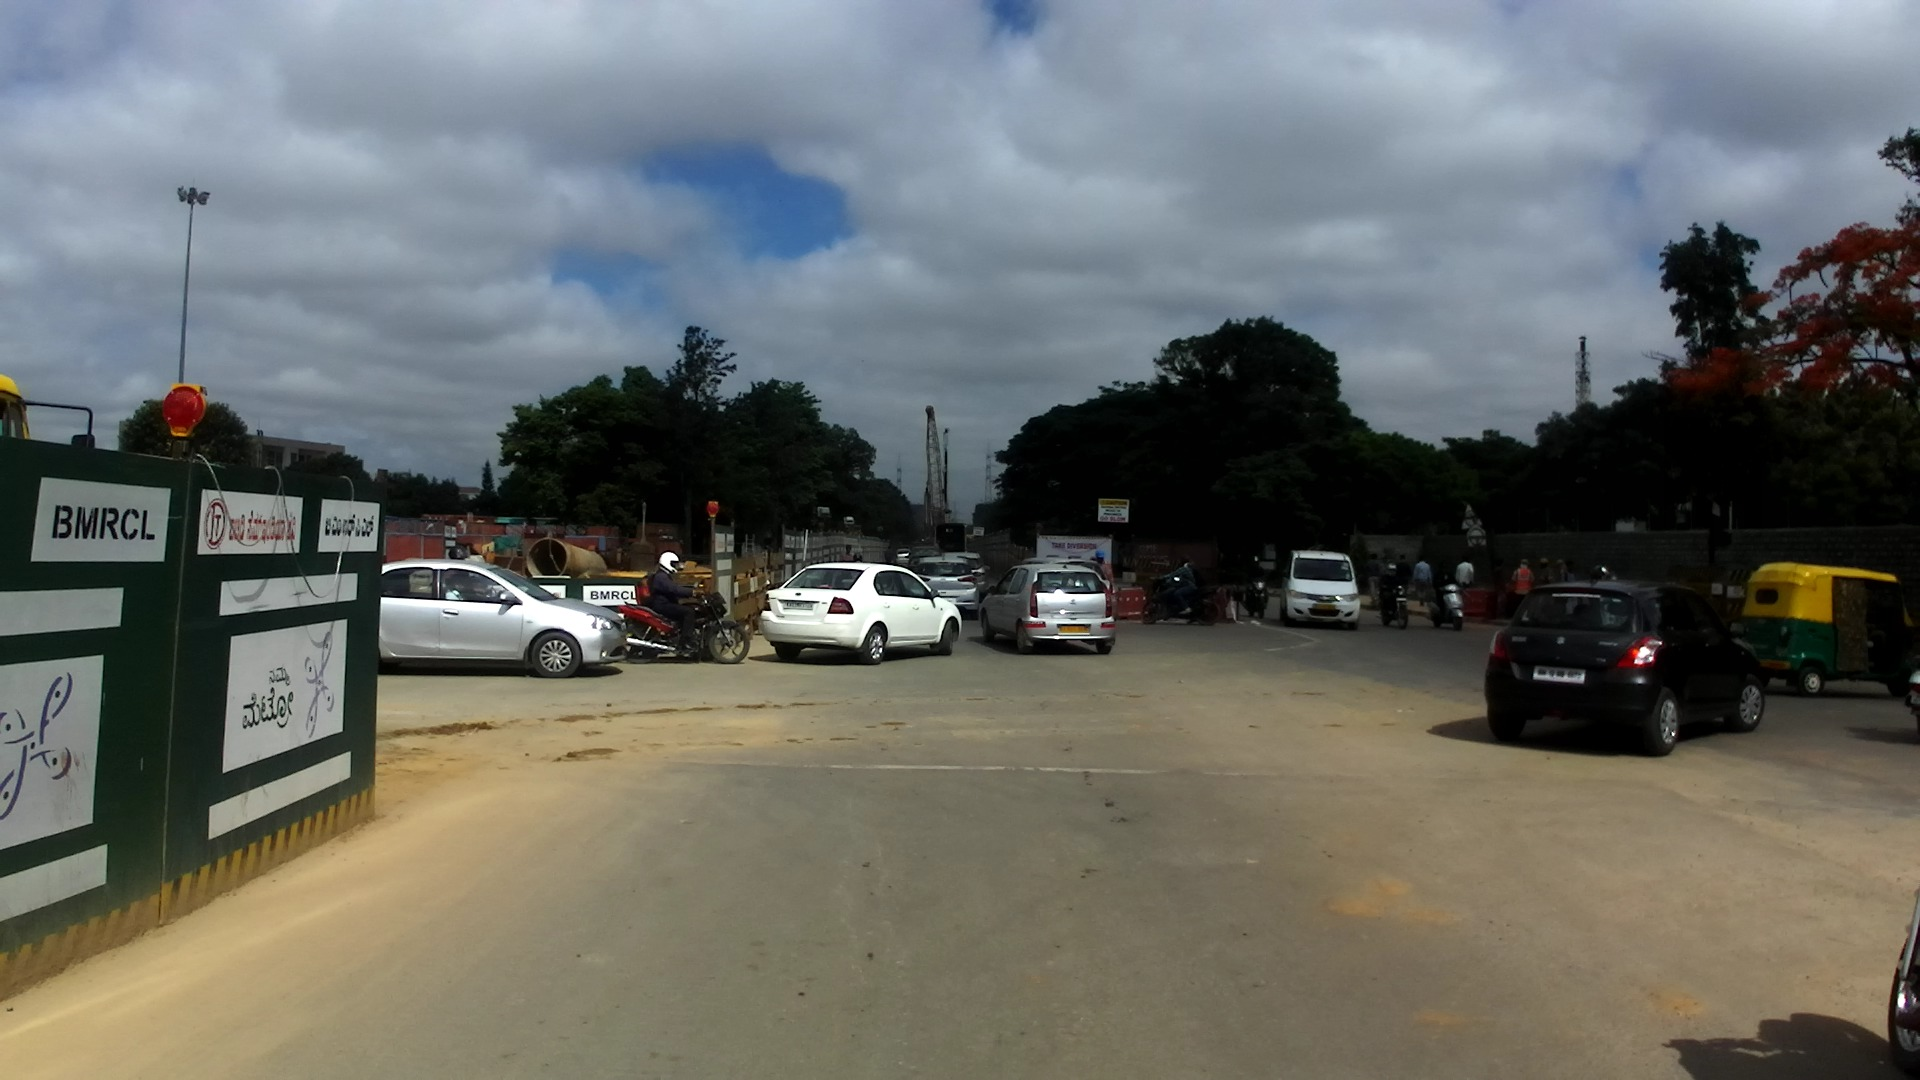autorickshaw: (1735, 563, 1916, 697)
car: (1484, 582, 1769, 756), (377, 558, 627, 676), (760, 562, 963, 664), (981, 562, 1118, 654), (1279, 551, 1363, 629), (1023, 558, 1119, 621), (915, 558, 983, 619), (944, 552, 990, 600), (905, 547, 938, 570), (897, 549, 911, 565)
motorcycle: (618, 593, 750, 665), (1876, 901, 1920, 1080), (1142, 574, 1219, 628), (1428, 578, 1466, 630), (1378, 584, 1409, 628), (1242, 574, 1271, 619), (1908, 660, 1920, 720)
person: (1509, 552, 1533, 616), (1494, 558, 1509, 617), (1415, 557, 1432, 607), (1366, 552, 1382, 606), (1094, 547, 1114, 590), (1453, 552, 1474, 592), (1534, 557, 1553, 587), (1396, 553, 1411, 594), (1555, 560, 1571, 585), (446, 542, 464, 558), (841, 543, 853, 564), (882, 545, 895, 563), (1566, 558, 1576, 584)
rider: (643, 550, 705, 646), (1159, 553, 1202, 614), (1431, 561, 1457, 625), (1375, 564, 1399, 620), (1245, 552, 1267, 609), (1593, 565, 1610, 582), (854, 552, 862, 563)
traffic light: (1714, 527, 1732, 548)
truck: (935, 523, 967, 554)
vehicle fallback: (1, 368, 102, 452)
